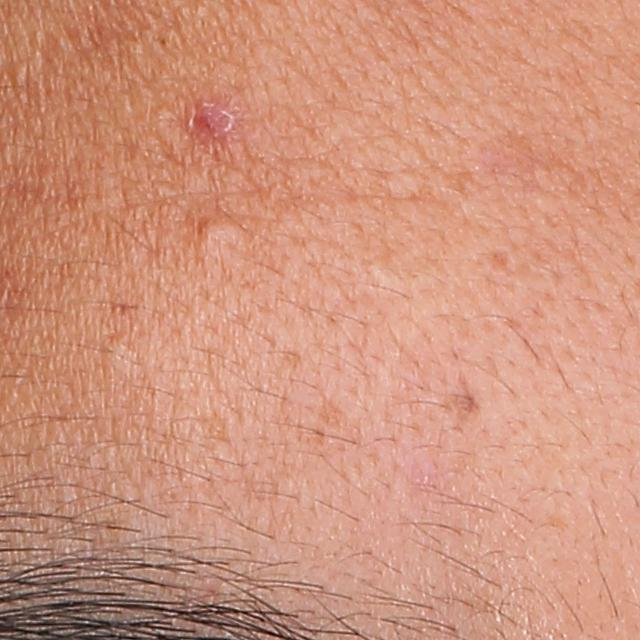atrophic_scar: (486, 246, 517, 281)
comedo: (196, 216, 245, 248)
melasma: (435, 377, 487, 437)
papule: (188, 104, 235, 144)
